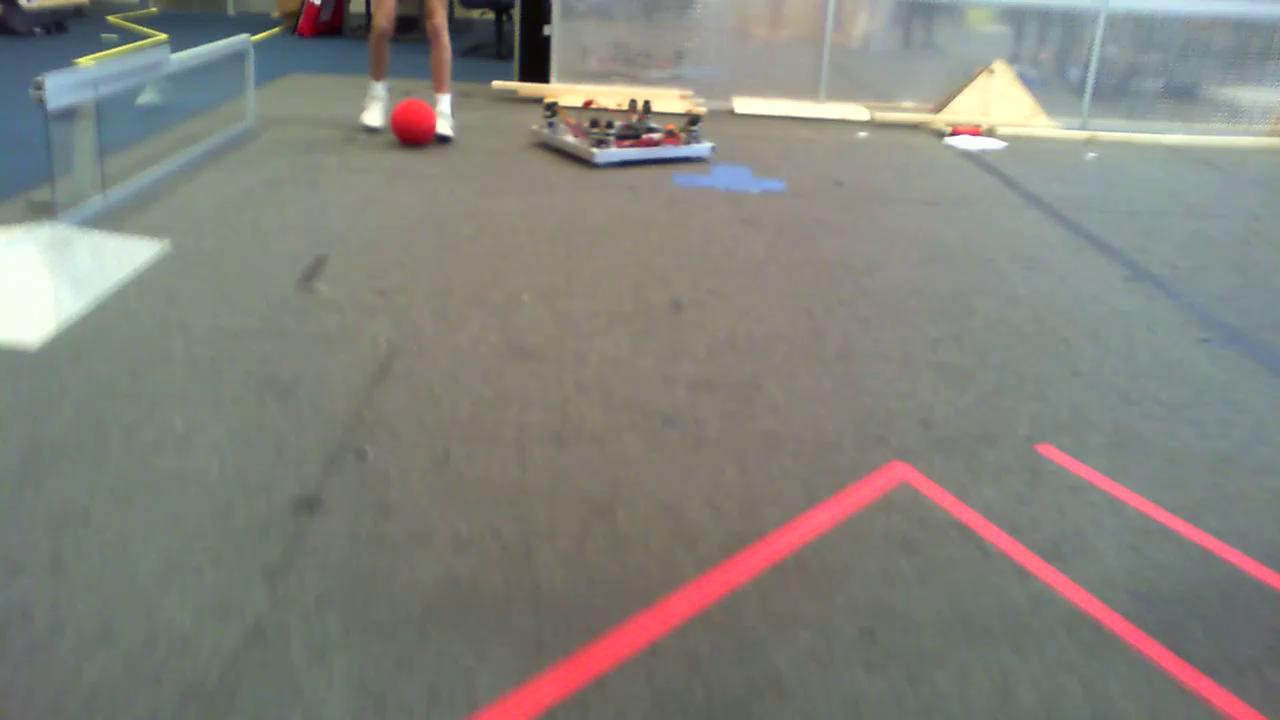Red_Ball: (383, 89, 441, 149)
